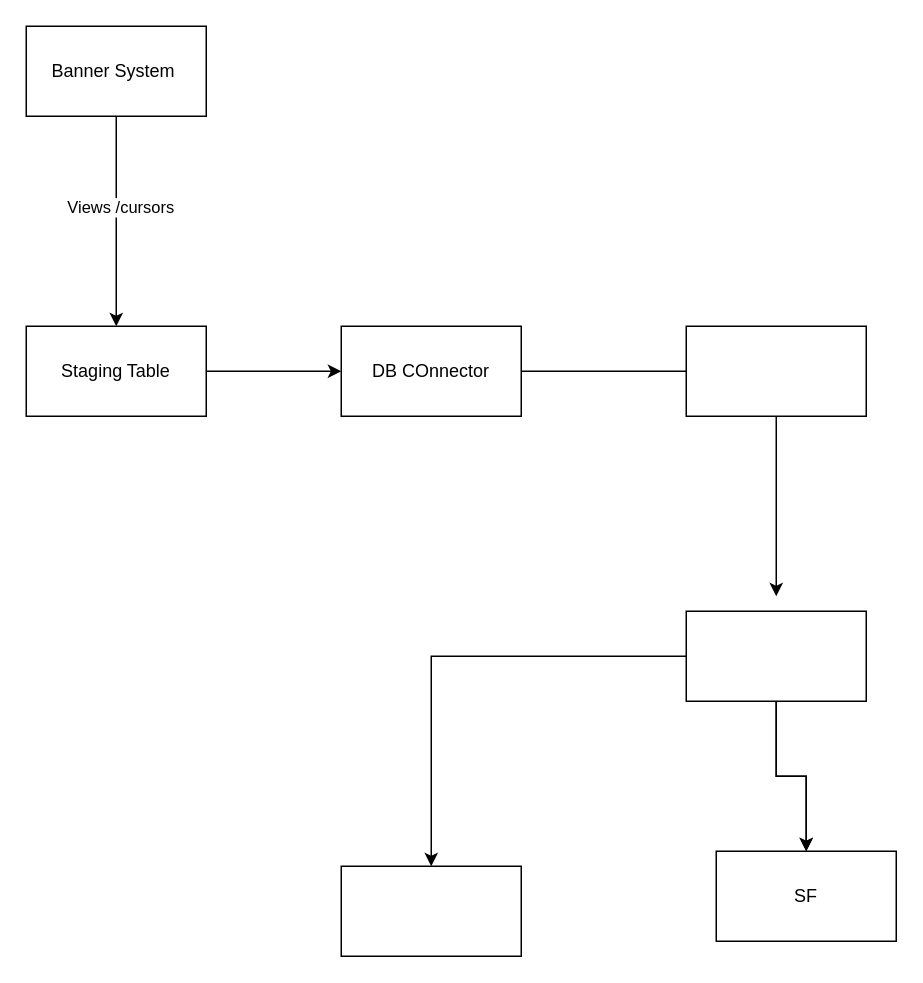
The diagram is 923 pixels wide and 983 high, and some of its shapes have lost their labels. The centre of each missing label's shape, as x and y in pixels:
"Extraction" goes at point 775,370.
"Transformation" goes at point 775,655.
